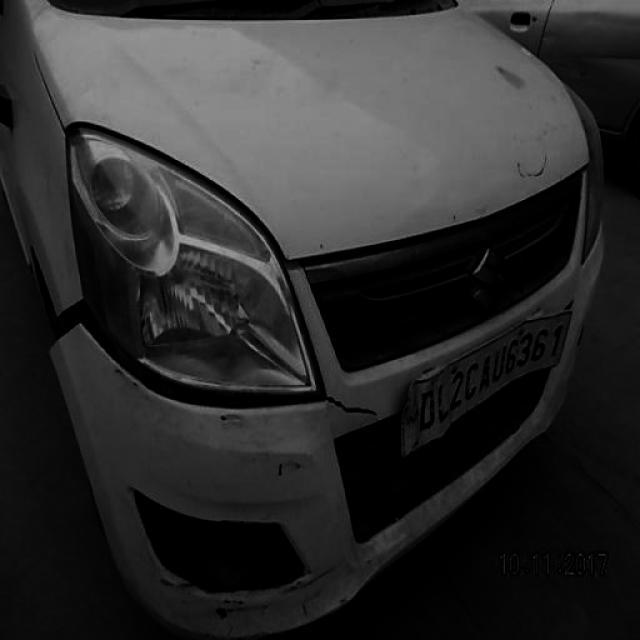car damage: (46, 292, 391, 435), (149, 543, 378, 639)
